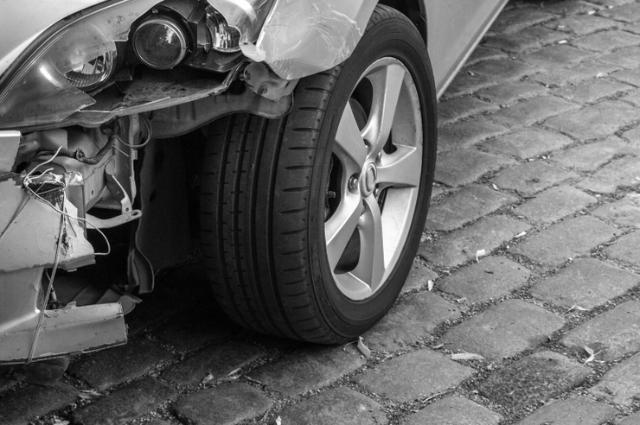Bumper: (0, 117, 274, 386)
Light: (0, 0, 249, 128)
